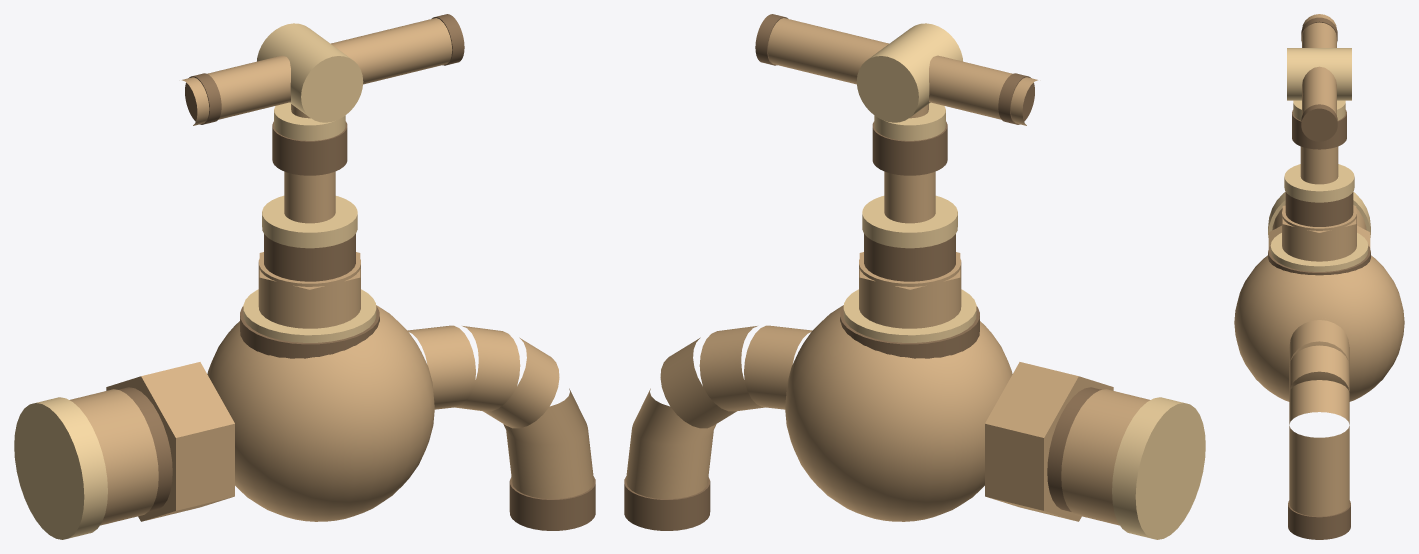
Rendered from brass_wall_faucet.glb.
The picture shows the model from 3 angles, left to right: view 1: azimuth 30°, elevation 25°; view 2: azimuth 150°, elevation 25°; view 3: azimuth 270°, elevation 25°; orthographic projection. The views are drawn at different scales.
Visible parts, largest first — view 1: Brass Wall Faucet; view 2: Brass Wall Faucet; view 3: Brass Wall Faucet.
Boxes of the visible parts, x1,y1,x2,y2 form: Brass Wall Faucet: (14, 14, 595, 539); Brass Wall Faucet: (624, 14, 1205, 539); Brass Wall Faucet: (1234, 14, 1404, 539).
Bounding box in the file's own units: 1.83 × 1.72 × 0.68.
